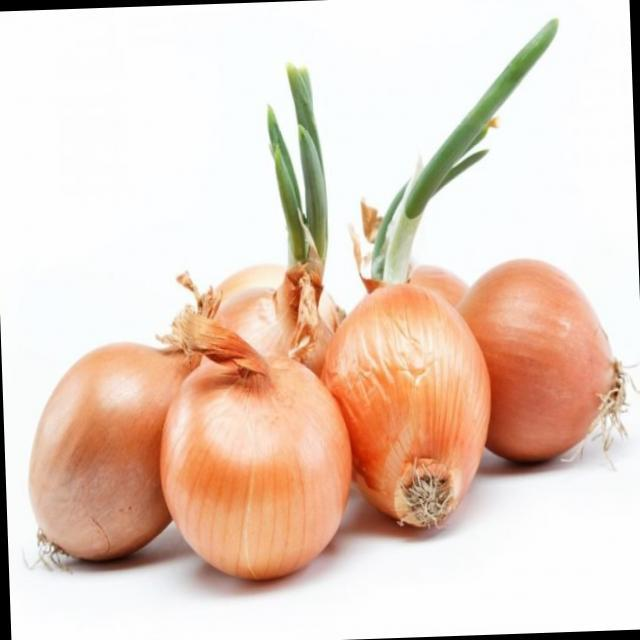ONIONS: (164, 325, 350, 577), (323, 278, 493, 528), (23, 304, 180, 572), (474, 230, 630, 470), (186, 274, 340, 392)
